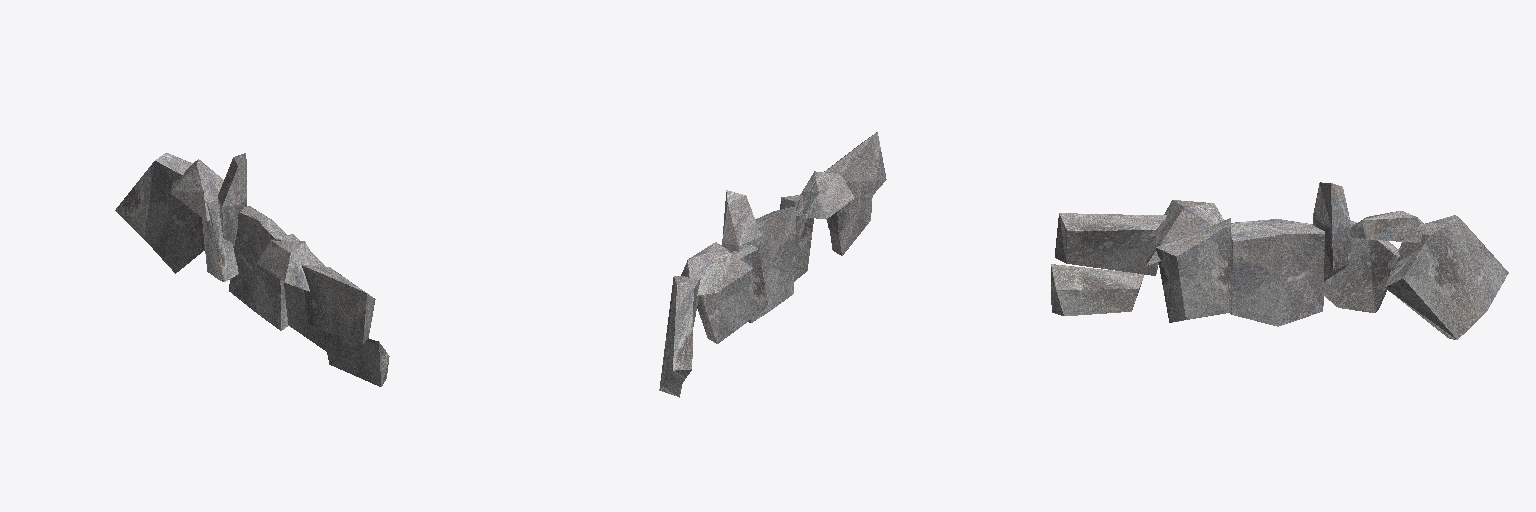
3 views of the same model, side by side, from view 1: azimuth 30°, elevation 25°; view 2: azimuth 150°, elevation 25°; view 3: azimuth 270°, elevation 25° (orthographic).
Parts seen in each view (by area): view 1: Cube.006; view 2: Cube.006; view 3: Cube.006.
Boxes of the visible parts, x1=… form: Cube.006: x1=115, y1=153, x2=389, y2=386; Cube.006: x1=659, y1=132, x2=886, y2=397; Cube.006: x1=1051, y1=182, x2=1508, y2=339.
Size of the model in its own units: 0.7318 by 1.72 by 4.42.
1 materials, 1 textured.